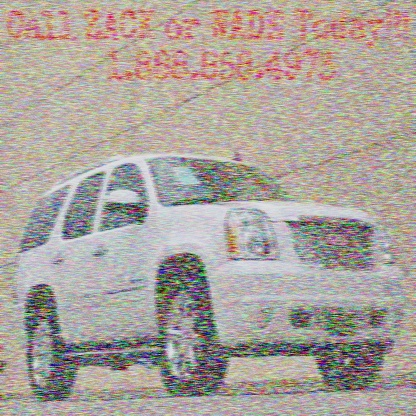Vehicle: (14, 151, 410, 399)
